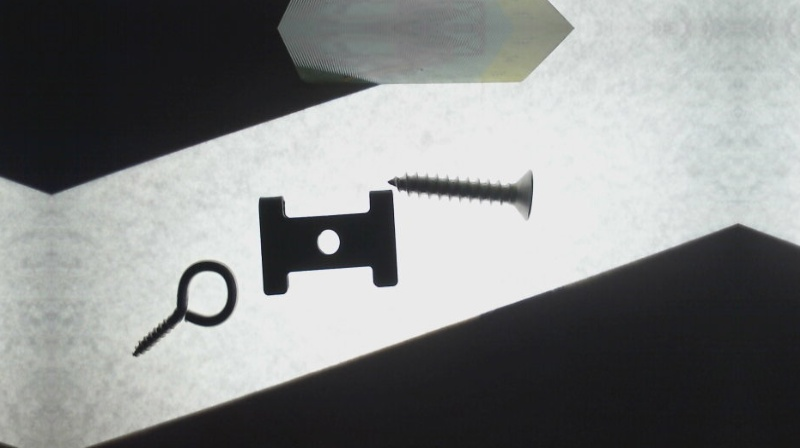O001: (127, 256, 242, 359)
O002: (252, 189, 400, 297)
S001: (384, 168, 536, 223)
